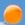Balloon: (4, 5, 22, 24)
